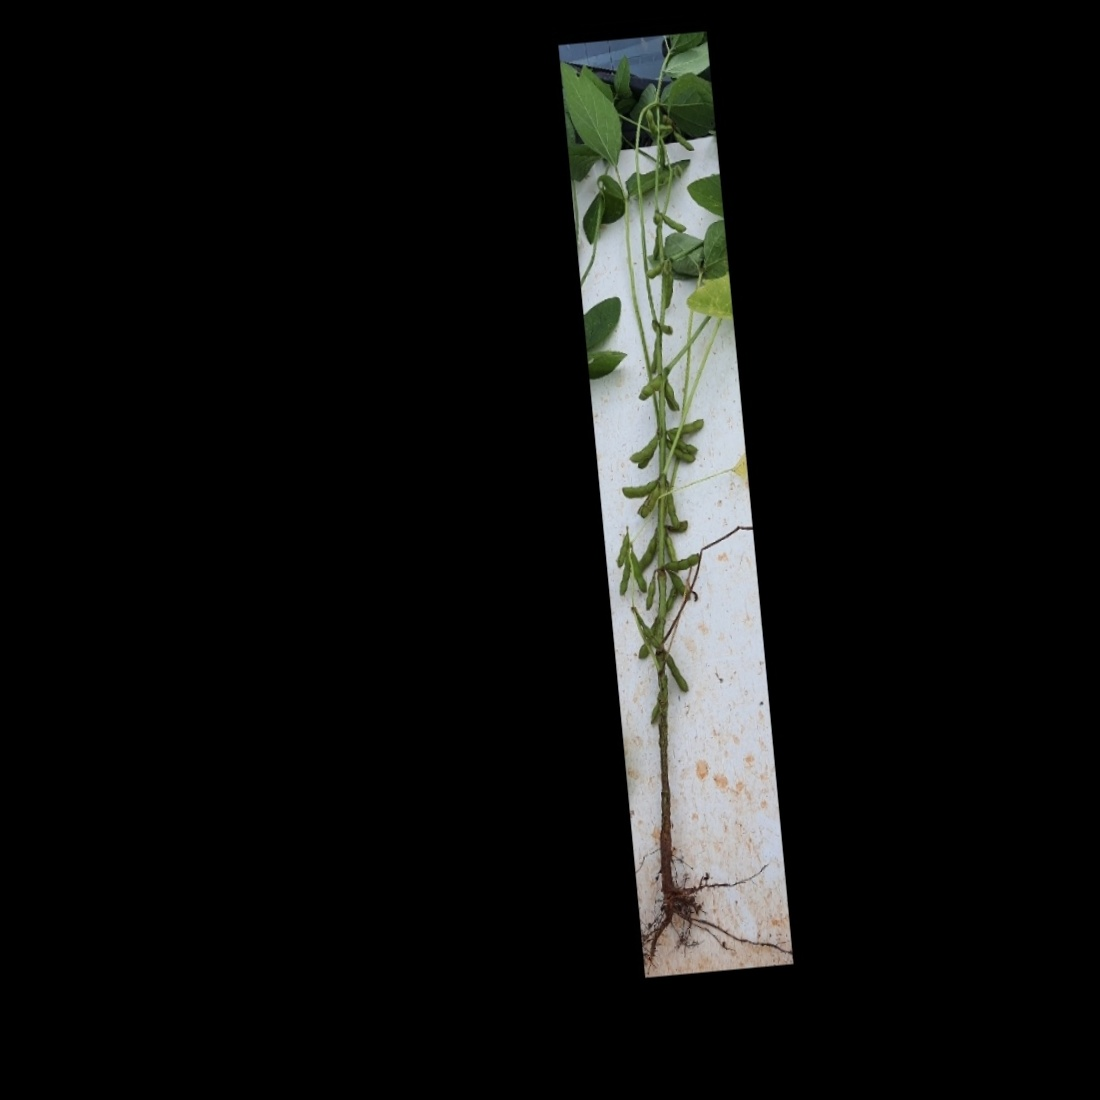pod: (663, 645, 690, 697), (635, 530, 663, 571), (615, 549, 636, 598), (629, 548, 649, 596), (662, 551, 701, 575), (620, 476, 661, 499), (643, 690, 666, 728), (612, 526, 632, 567), (642, 573, 661, 610), (673, 127, 698, 155), (669, 572, 693, 600), (661, 211, 688, 234), (643, 107, 659, 137)
soy: (578, 86, 775, 940)
